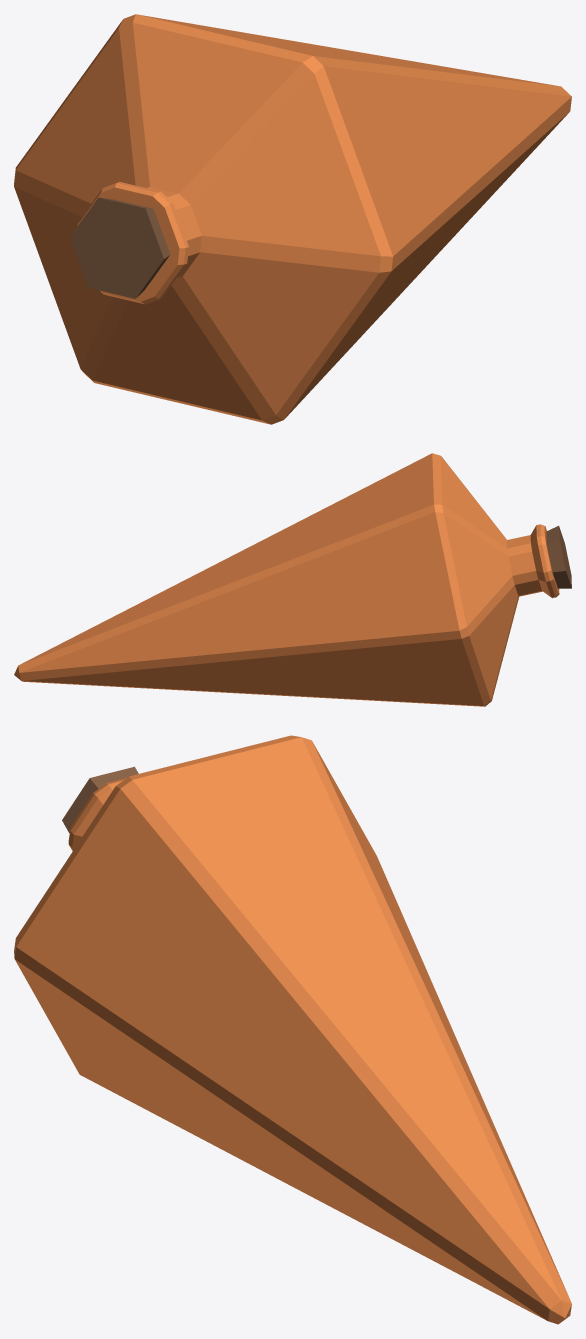
File: Potion_01_Orange.fbx
The picture shows the model from 3 angles, top to bottom: view 1: azimuth 30°, elevation 25°; view 2: azimuth 150°, elevation 25°; view 3: azimuth 270°, elevation 25°; orthographic projection. The views are drawn at different scales.
Parts seen in each view (by area): view 1: Cone.004, Cylinder.013, Cylinder.012; view 2: Cone.004, Cylinder.012, Cylinder.013; view 3: Cone.004, Cylinder.012, Cylinder.013.
Part boxes in pixels (x1,y1,x2,y2): Cone.004: (14,14,571,424); Cylinder.013: (70,197,170,298); Cylinder.012: (77,182,201,304); Cone.004: (14,453,518,706); Cylinder.012: (507,524,559,598); Cylinder.013: (546,525,571,588); Cone.004: (14,735,571,1324); Cylinder.012: (68,778,125,851); Cylinder.013: (62,766,138,833).
Size of the model in its own units: 31.74 by 14.47 by 22.3.
